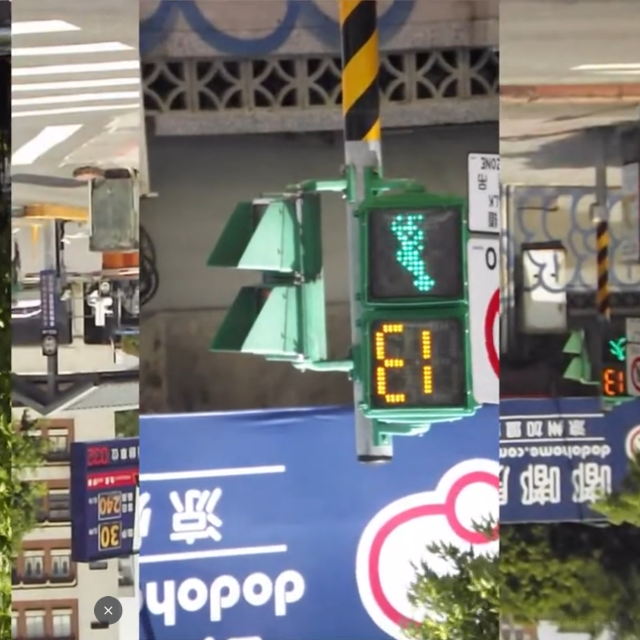green_light: (362, 200, 472, 414), (603, 335, 627, 393)
